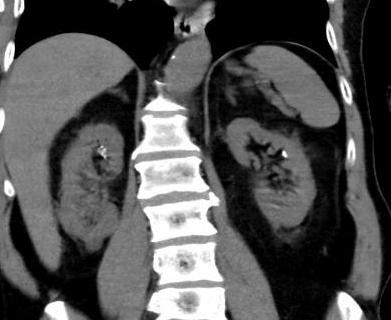Tas_Var: (281, 149, 288, 158), (98, 150, 108, 154), (98, 152, 106, 156), (100, 144, 106, 149), (104, 154, 108, 160)
